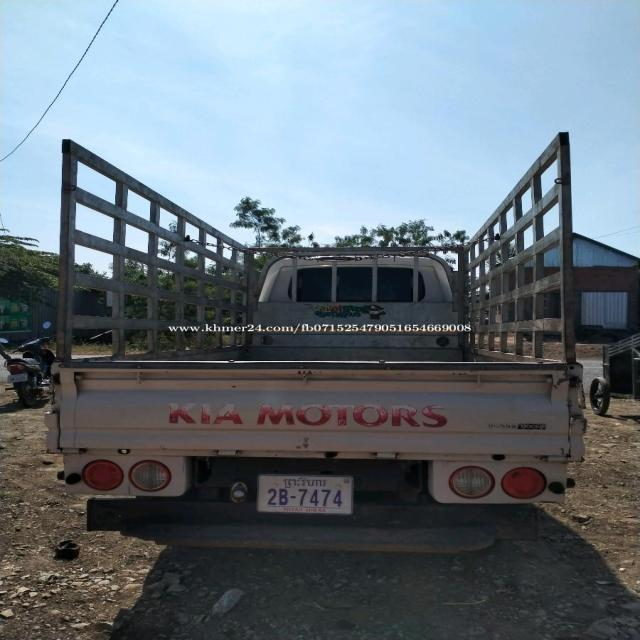Preah_Vihear: (283, 477, 328, 488)
